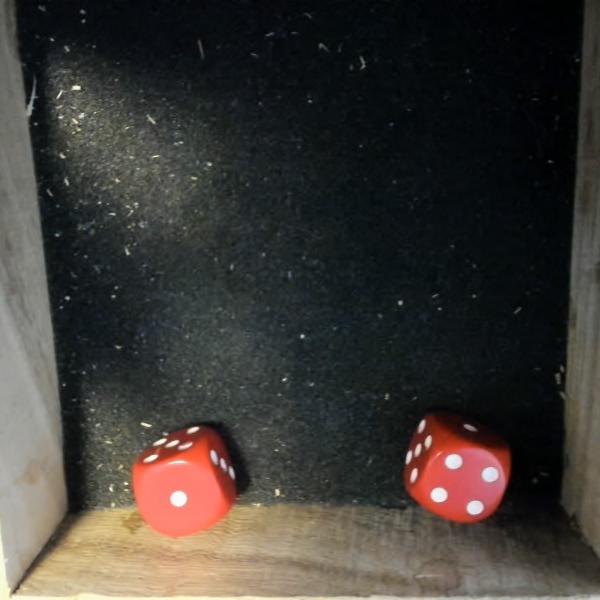red_die_pip1: (117, 413, 252, 549)
red_die_pip4: (388, 395, 527, 538)
